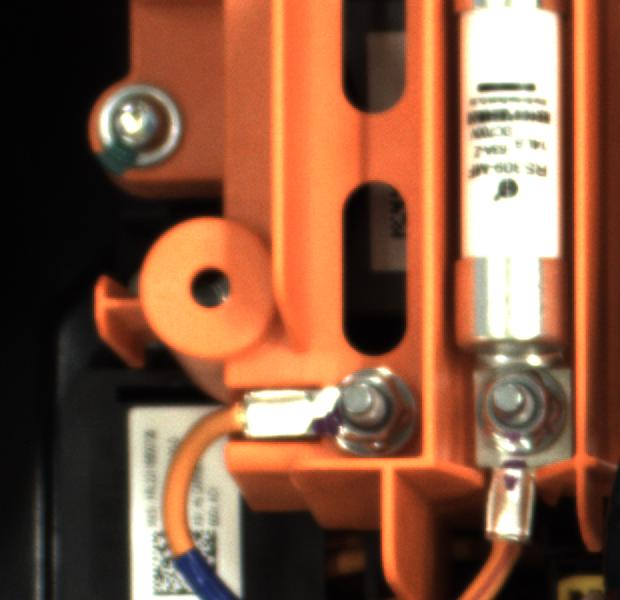screw_m: (87, 79, 191, 168)
screw_s: (469, 362, 564, 451), (317, 366, 407, 447)
